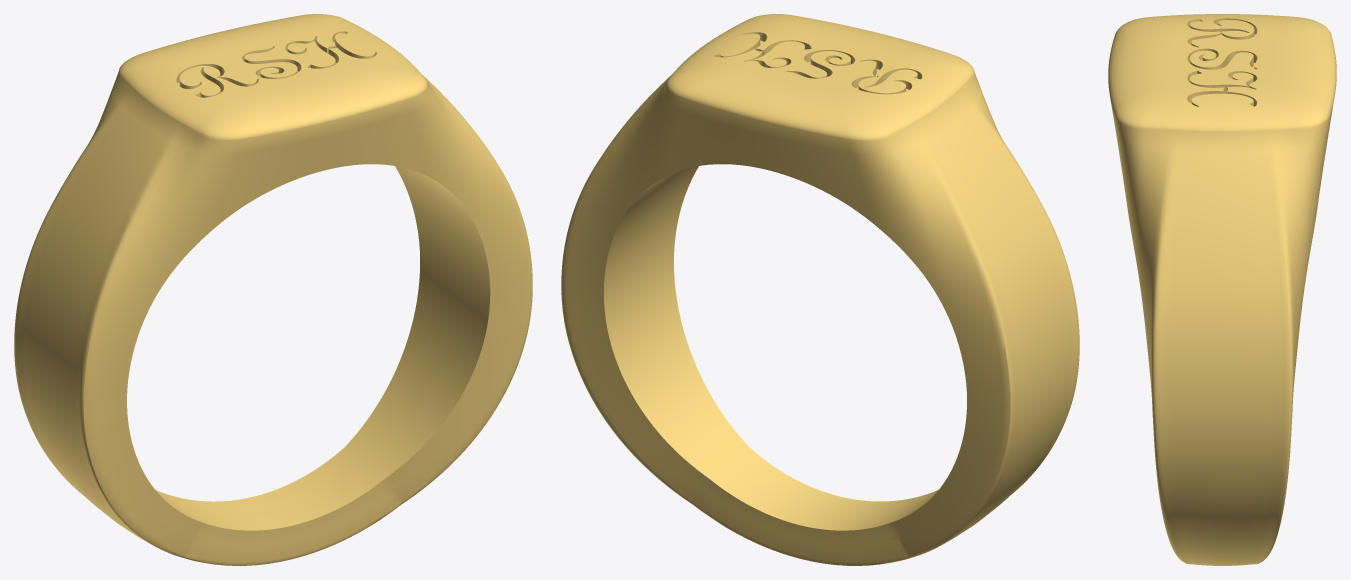
Rendered from ClaireYG_blender.glb.
The picture shows the model from 3 angles, left to right: view 1: azimuth 30°, elevation 25°; view 2: azimuth 150°, elevation 25°; view 3: azimuth 270°, elevation 25°; orthographic projection.
Parts seen in each view (by area): view 1: Claire H YG for 3D MODEL; view 2: Claire H YG for 3D MODEL; view 3: Claire H YG for 3D MODEL.
Boxes of the visible parts, x1,y1,x2,y2 form: Claire H YG for 3D MODEL: (14,14,532,565); Claire H YG for 3D MODEL: (561,14,1079,565); Claire H YG for 3D MODEL: (1108,14,1336,565).
Size of the model in its own units: 22.6 by 23.21 by 10.
